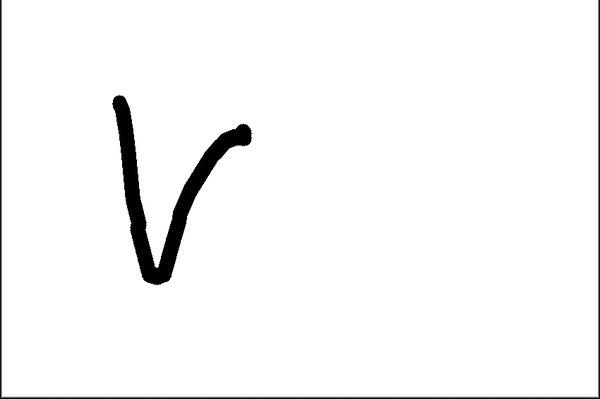V: (105, 92, 255, 292)
